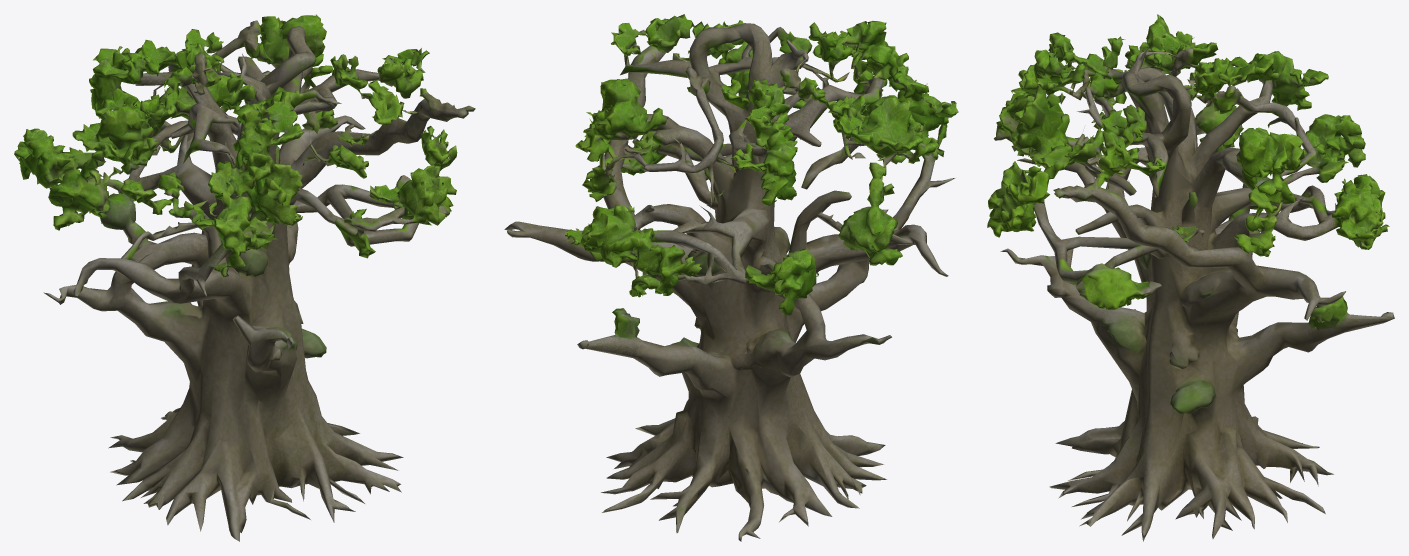
File: oak.glb
3 views of the same model, side by side, from view 1: azimuth 30°, elevation 25°; view 2: azimuth 150°, elevation 25°; view 3: azimuth 270°, elevation 25° (orthographic). The views are drawn at different scales.
Size of the model in its own units: 1.66 by 1.88 by 1.64.
1 material, 1 textured.
